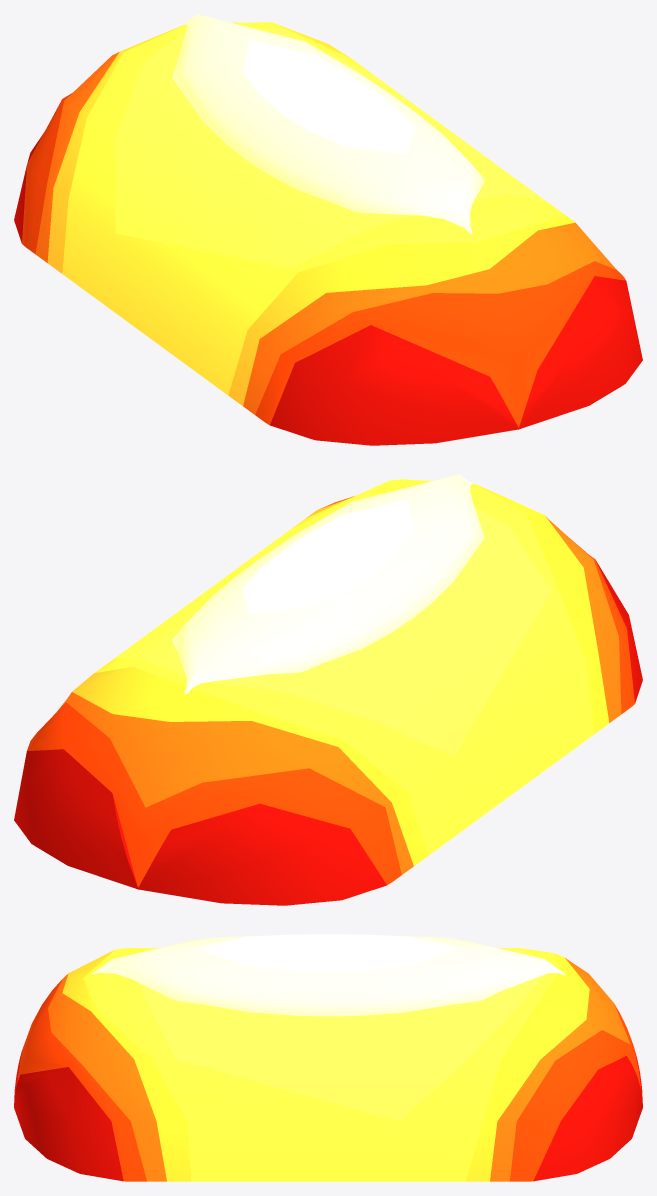
Rendered from shot_widget_2.glb.
3 renders of one model, top to bottom at view 1: azimuth 30°, elevation 25°; view 2: azimuth 150°, elevation 25°; view 3: azimuth 270°, elevation 25°, orthographic. The views are drawn at different scales.
Parts seen in each view (by area): view 1: shot_widget_2_plasma, shot_widget_2_spine; view 2: shot_widget_2_plasma, shot_widget_2_spine; view 3: shot_widget_2_plasma, shot_widget_2_spine.
Boxes of the visible parts, bbox=[...] form: shot_widget_2_plasma: bbox=[14, 22, 642, 445]; shot_widget_2_spine: bbox=[172, 14, 484, 233]; shot_widget_2_plasma: bbox=[14, 479, 642, 905]; shot_widget_2_spine: bbox=[172, 474, 484, 693]; shot_widget_2_plasma: bbox=[14, 948, 642, 1181]; shot_widget_2_spine: bbox=[91, 934, 565, 1016].
Size of the model in its own units: 5 by 2.57 by 9.
